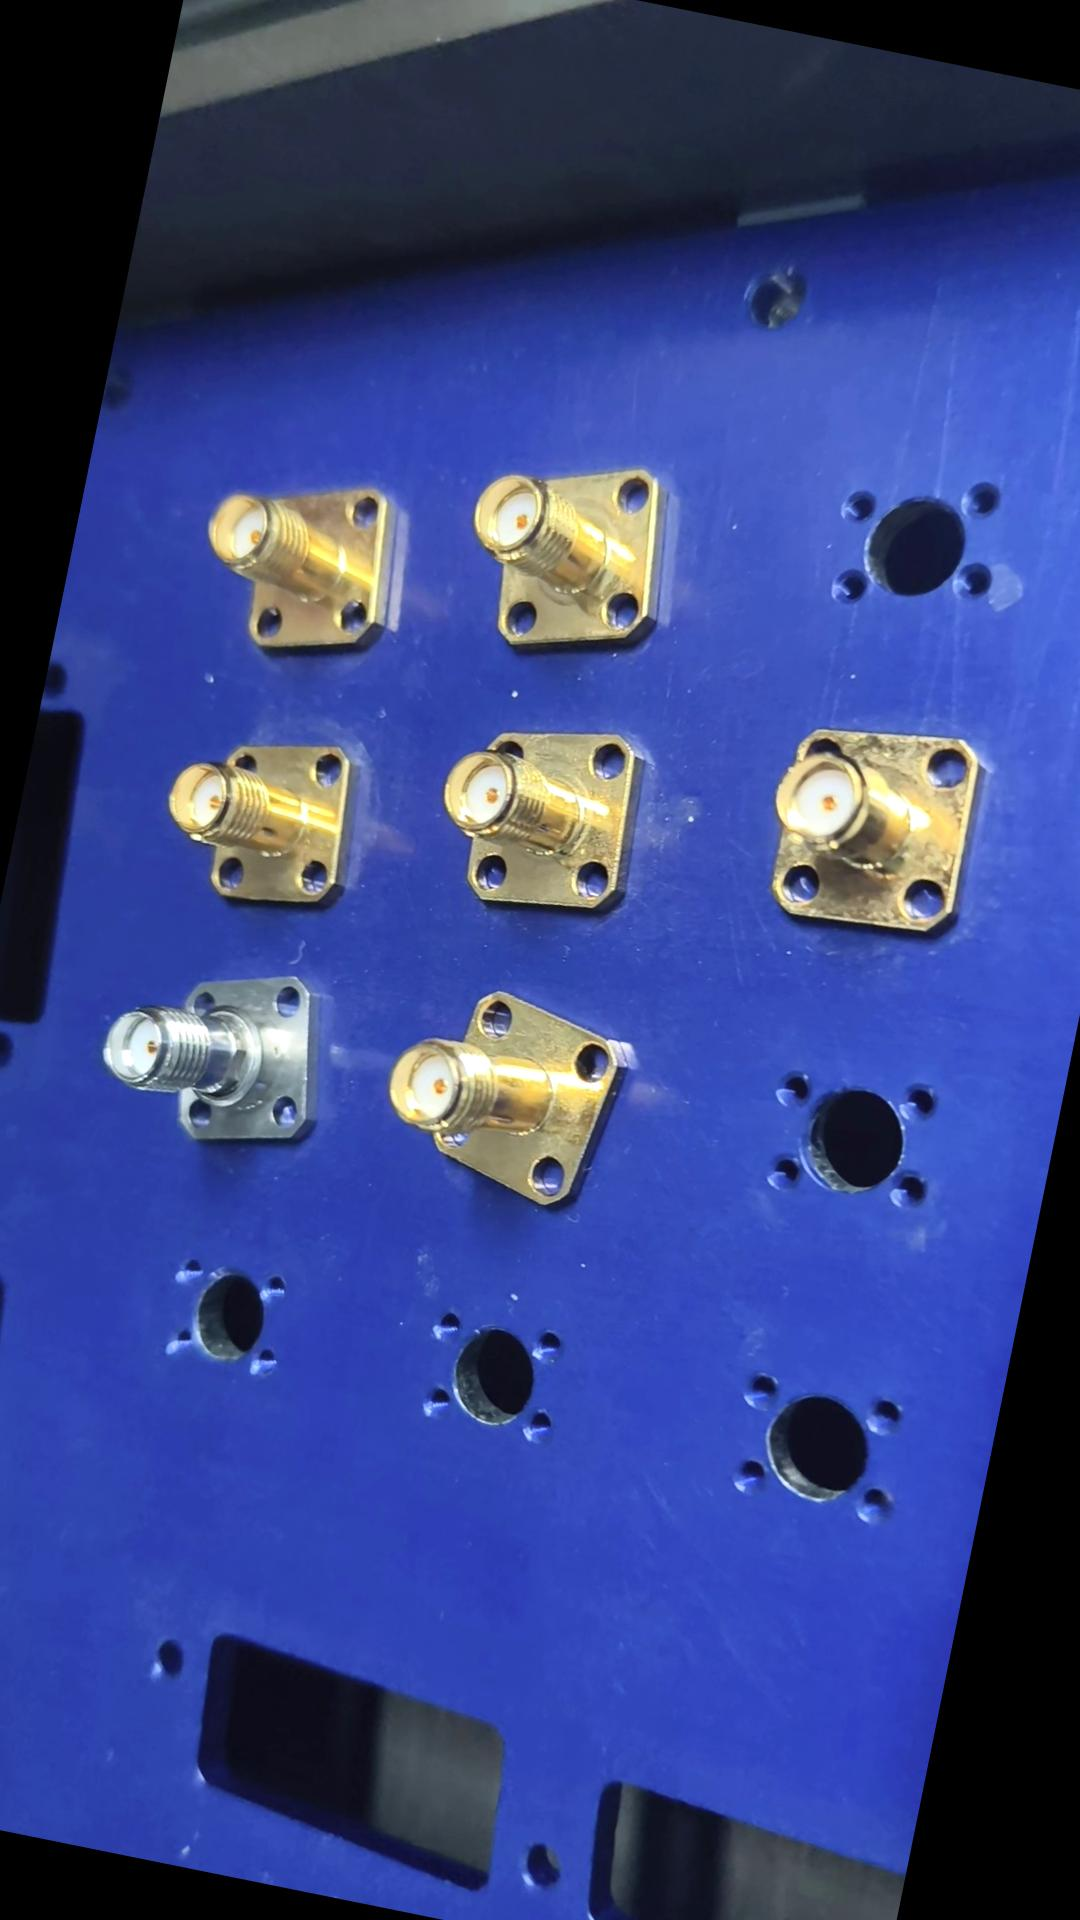SMA: (371, 971, 641, 1218), (748, 704, 998, 952), (86, 938, 348, 1166), (417, 702, 666, 934), (458, 436, 695, 676), (185, 460, 417, 675), (149, 709, 375, 924)
